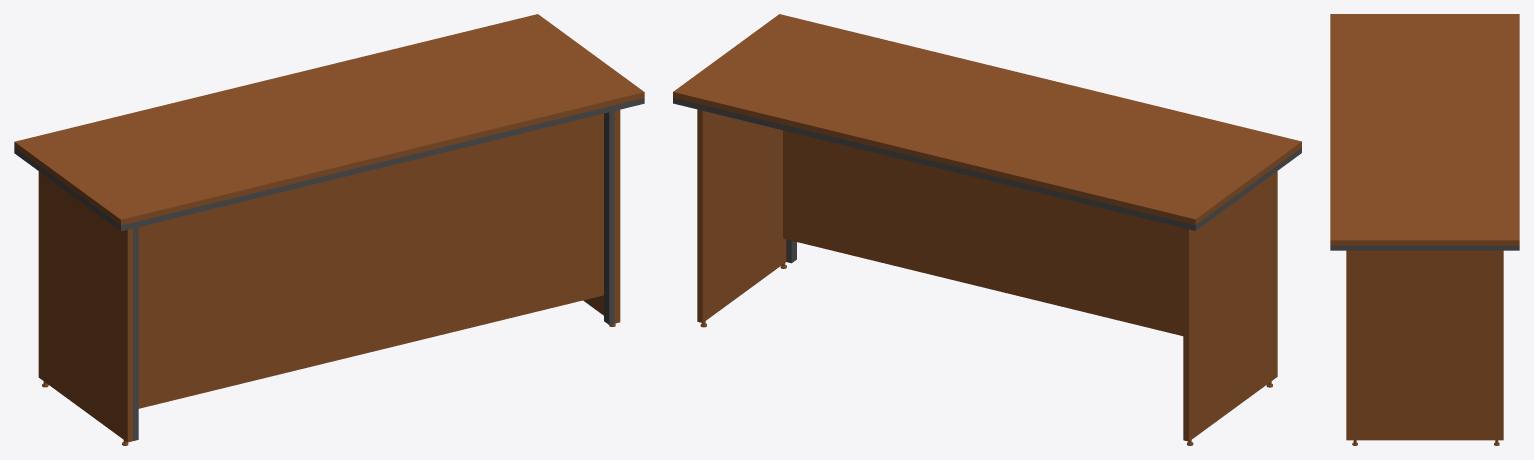
The model's file is Table_1.fbx.
3 views of the same model, side by side, from view 1: azimuth 30°, elevation 25°; view 2: azimuth 150°, elevation 25°; view 3: azimuth 270°, elevation 25° (orthographic). The views are drawn at different scales.
Parts seen in each view (by area): view 1: Table1; view 2: Table1; view 3: Table1.
Part boxes in pixels (<box>): Table1: <box>14,14,644,445</box>; Table1: <box>673,14,1301,445</box>; Table1: <box>1330,14,1519,445</box>.
Size of the model in its own units: 1.7 by 0.743 by 0.6.
